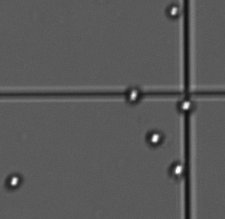Living Cell: (3, 170, 24, 190), (123, 85, 143, 105), (175, 96, 196, 115), (144, 129, 166, 147), (168, 159, 186, 179), (166, 1, 183, 20)
